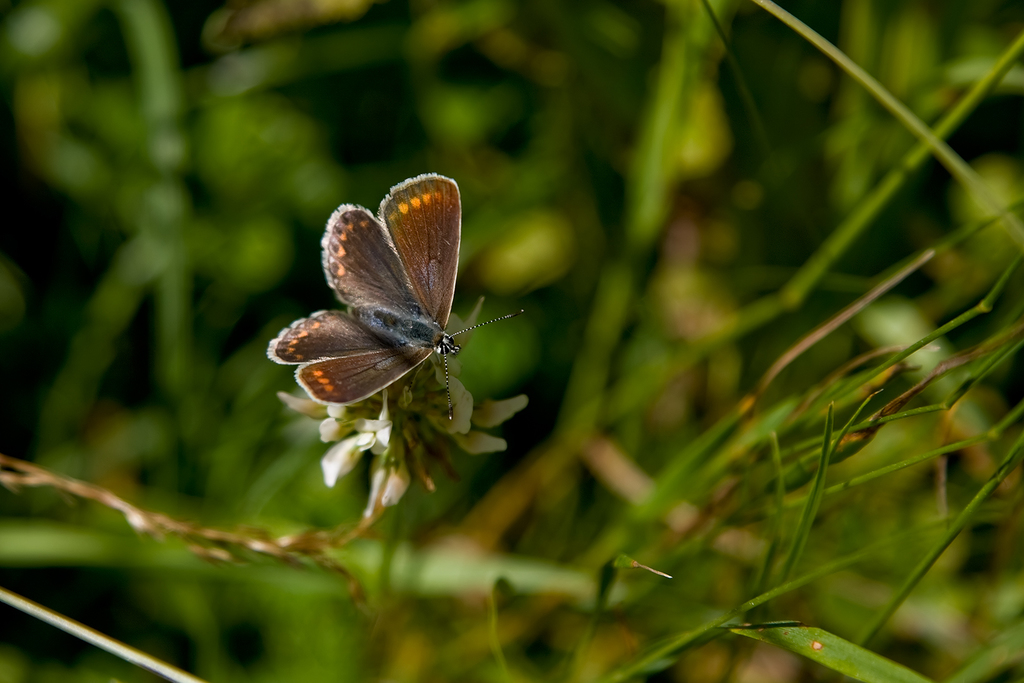Butterfly: (262, 156, 490, 425)
